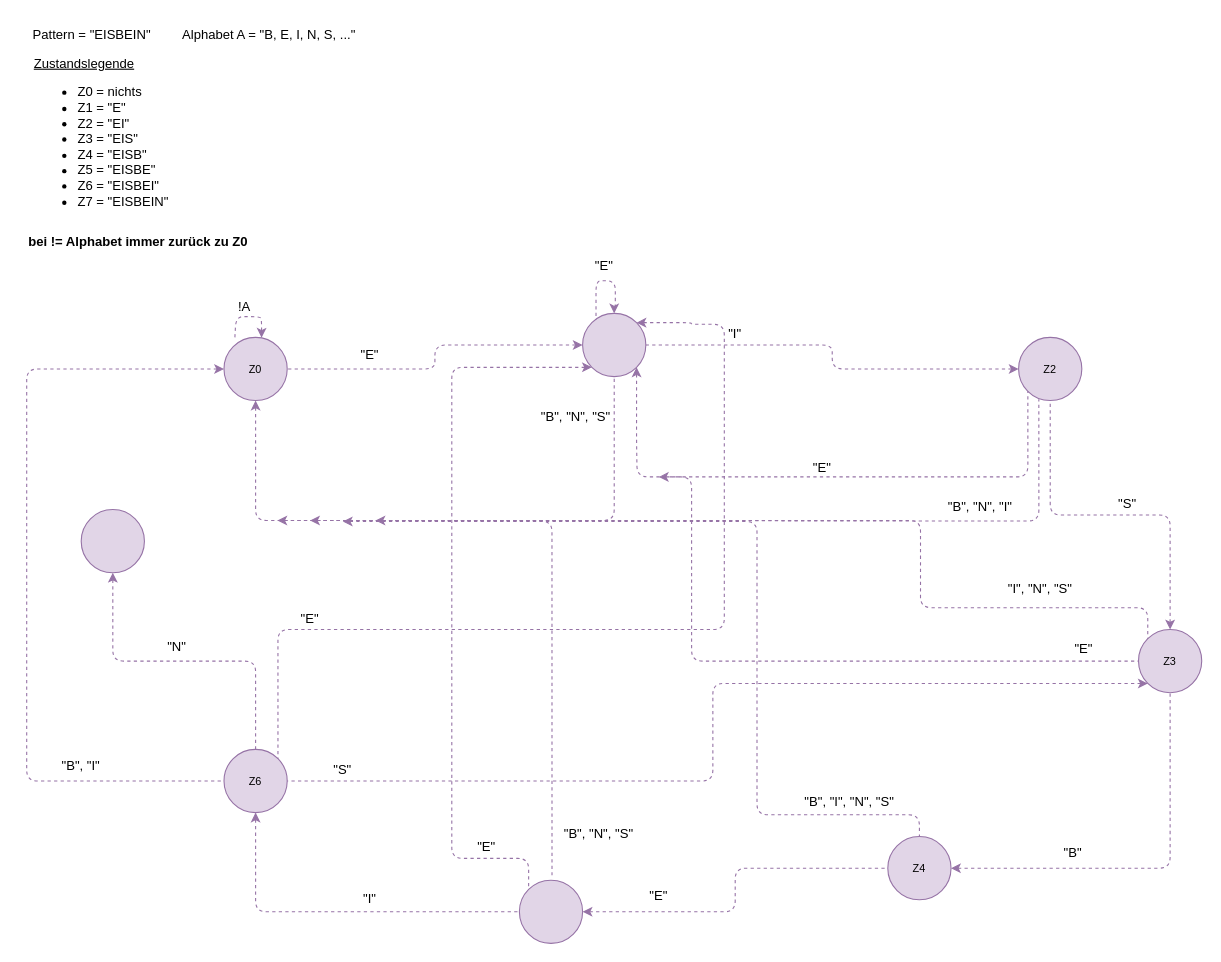
Image size: 1221x962. Some labels were removed from this diagram. Here are the shapes that lost their labels. From the top down, the box of each, then its label:
(582, 312, 646, 377): Z1
(80, 508, 144, 573): Z7
(518, 879, 583, 943): Z5
